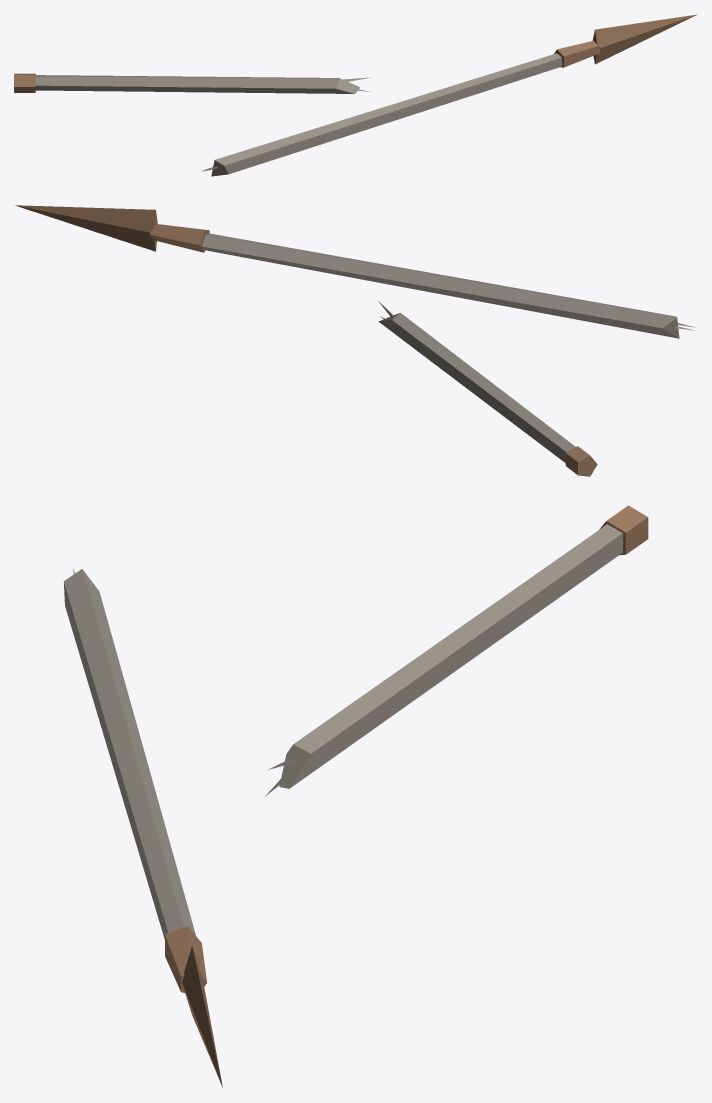
File: prop_spear_broken.glb
3 views of the same model, one above another, from view 1: azimuth 30°, elevation 25°; view 2: azimuth 150°, elevation 25°; view 3: azimuth 270°, elevation 25° (orthographic). The views are drawn at different scales.
Visible parts, largest first — view 1: prop_spear_broken_mesh; view 2: prop_spear_broken_mesh; view 3: prop_spear_broken_mesh.
Part boxes in pixels (x1=…): prop_spear_broken_mesh: x1=14, y1=14, x2=697, y2=176; prop_spear_broken_mesh: x1=15, y1=205, x2=696, y2=476; prop_spear_broken_mesh: x1=63, y1=505, x2=648, y2=1087.
Bounding box in the file's own units: 1.57 × 0.09 × 0.6803.
